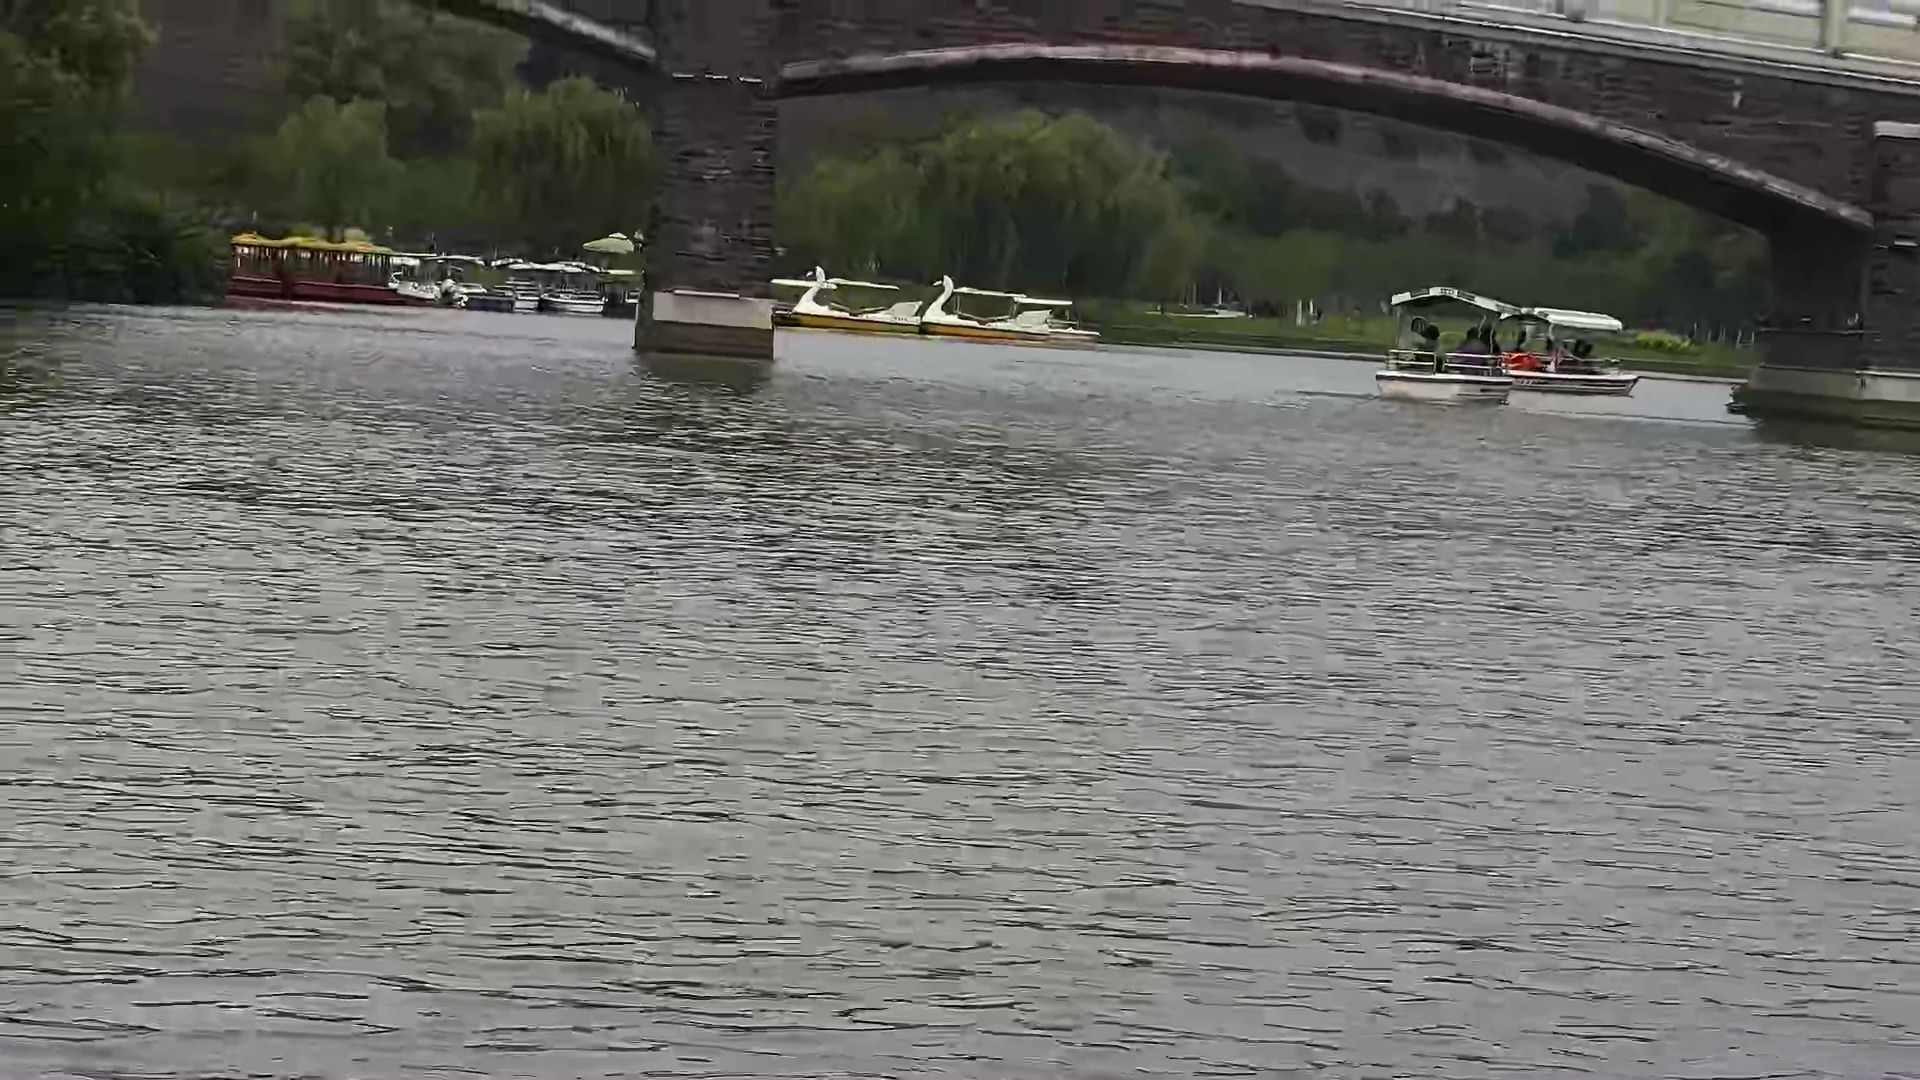boat: (1491, 291, 1644, 398), (1377, 289, 1506, 407)
harbor: (233, 228, 1097, 351)
